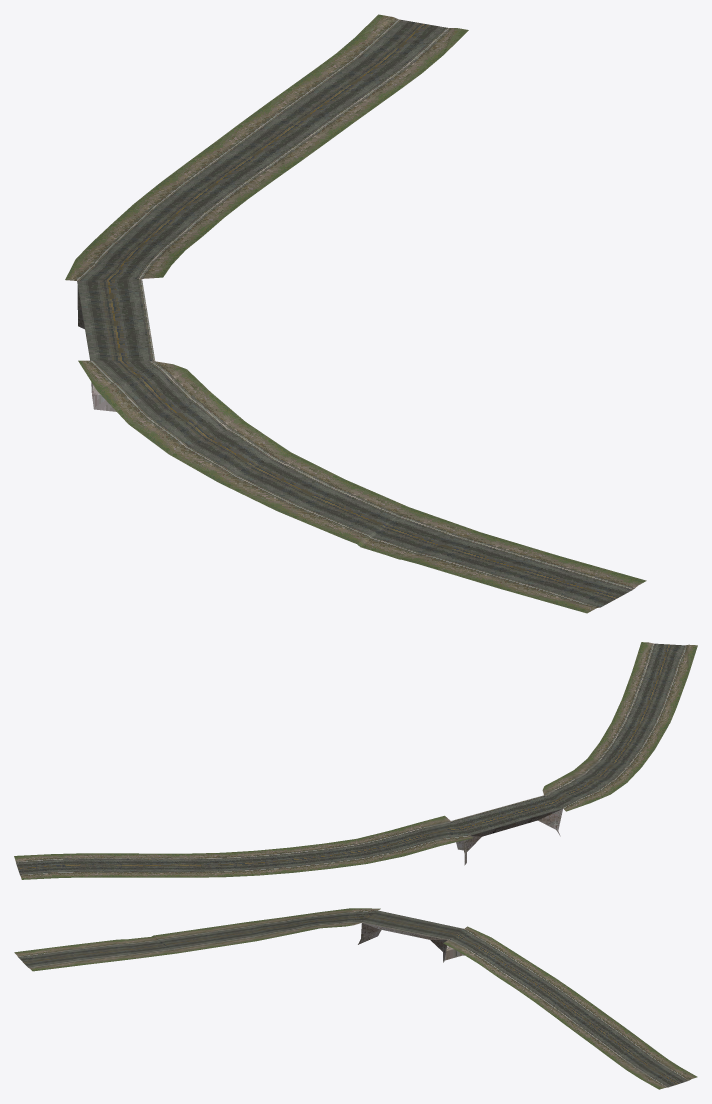
The model's file is lodcunte_roads30.obj.
3 views of the same model, one above another, from view 1: azimuth 30°, elevation 25°; view 2: azimuth 150°, elevation 25°; view 3: azimuth 270°, elevation 25° (orthographic). The views are drawn at different scales.
Parts seen in each view (by area): view 1: LODcunte_roads30; view 2: LODcunte_roads30; view 3: LODcunte_roads30.
Boxes of the visible parts, <box> form: LODcunte_roads30: <box>65,14,646,613</box>; LODcunte_roads30: <box>14,642,697,879</box>; LODcunte_roads30: <box>14,908,697,1089</box>.
Size of the model in its own units: 177 by 13.11 by 307.
2 materials, 2 textured.
